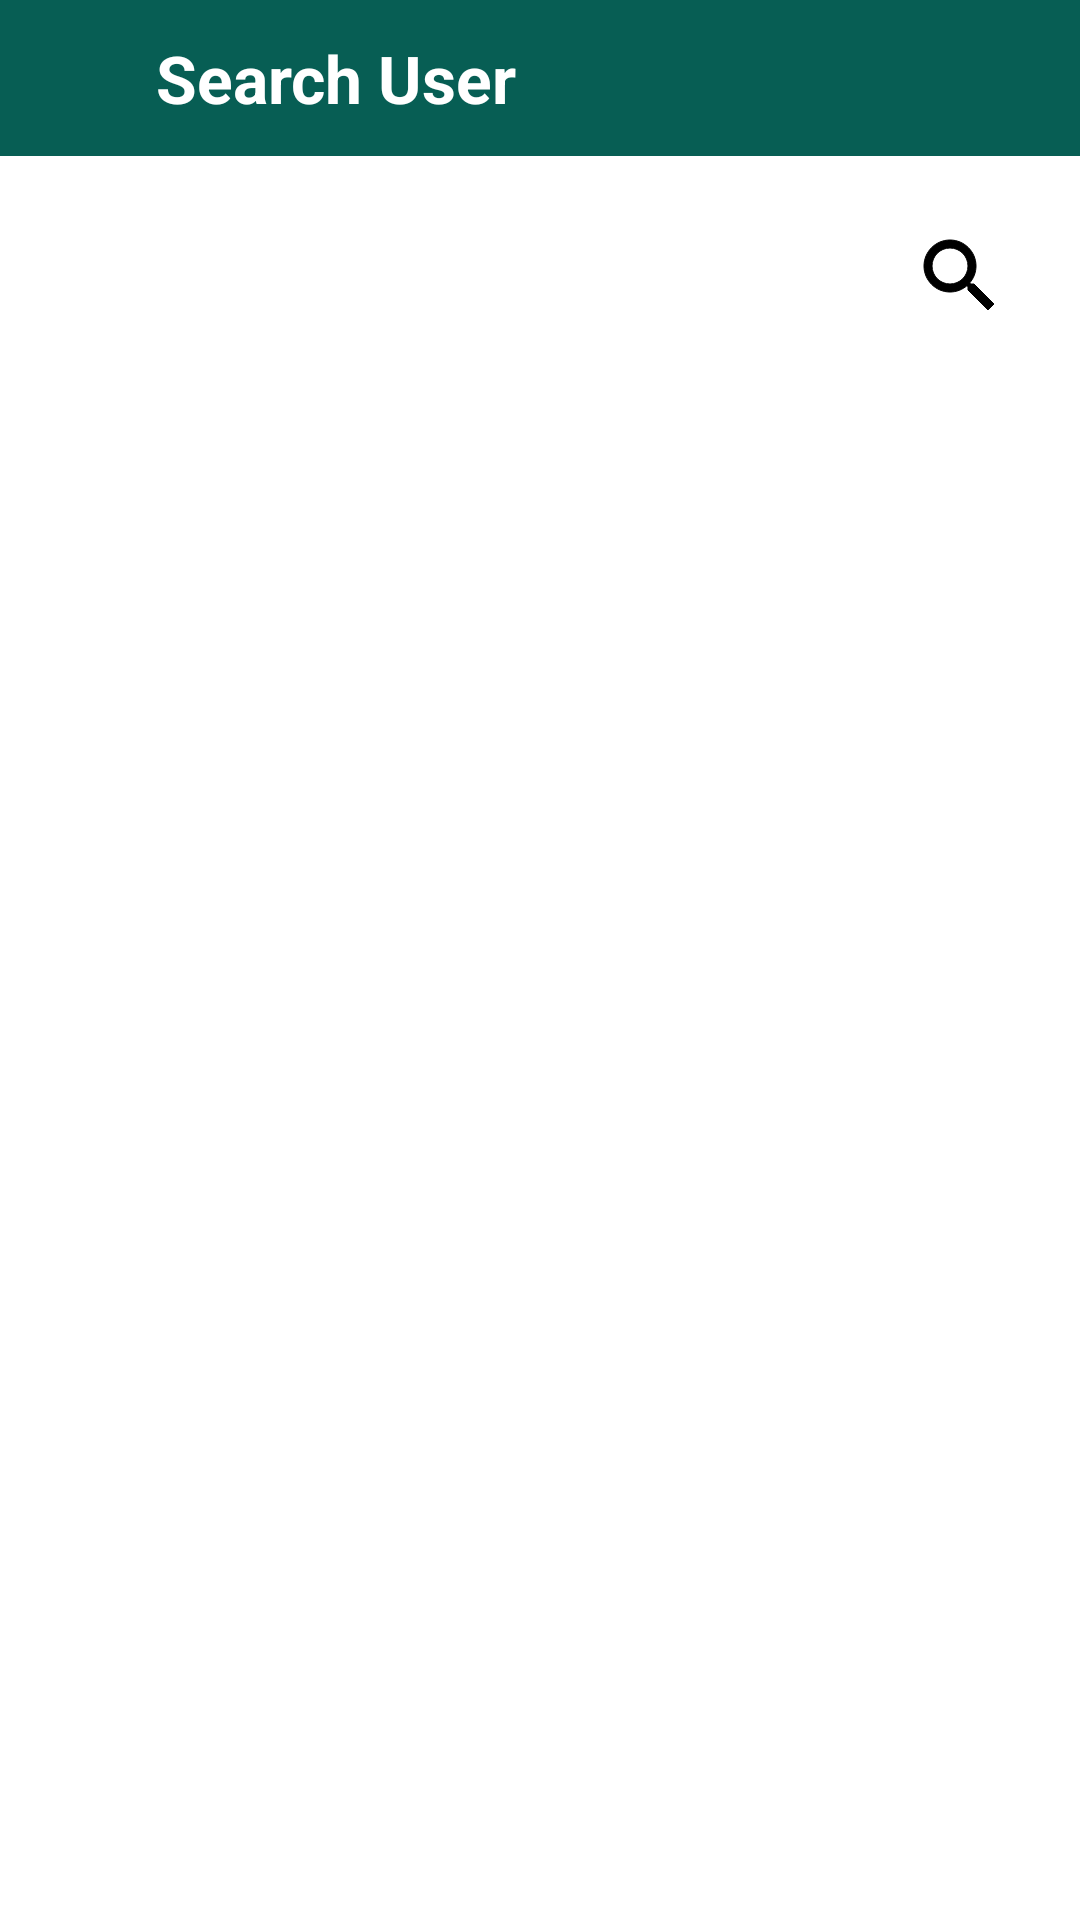

Icons on this 1080px×1920px Android screen, each with the point to tap as (x,y):
search: (958,274)
